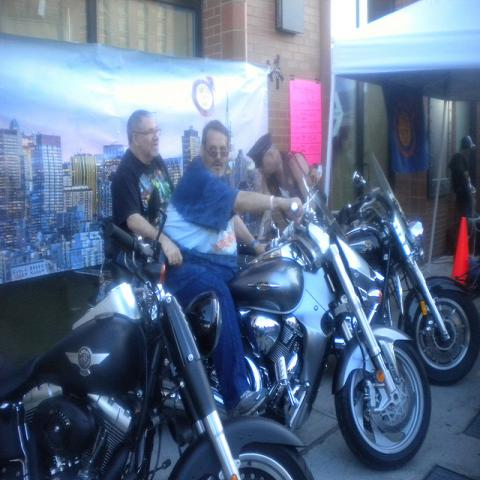motorcycle: (2, 223, 312, 474), (204, 160, 449, 470), (338, 157, 480, 379)
